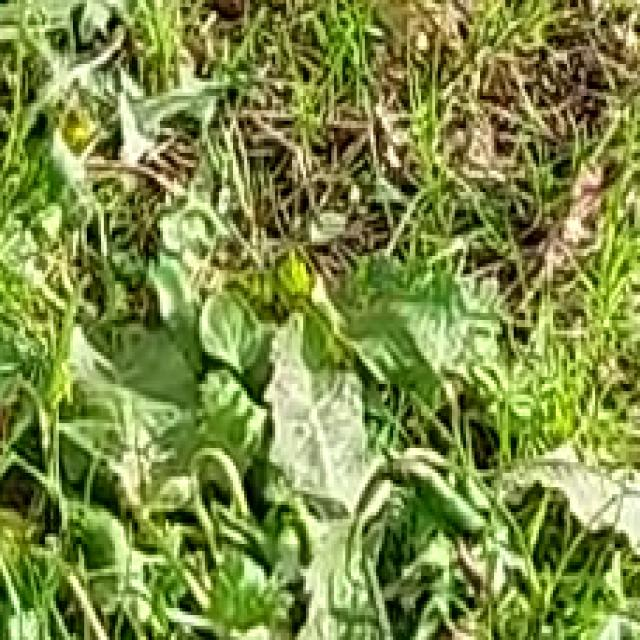organic waste: (126, 188, 590, 630)
